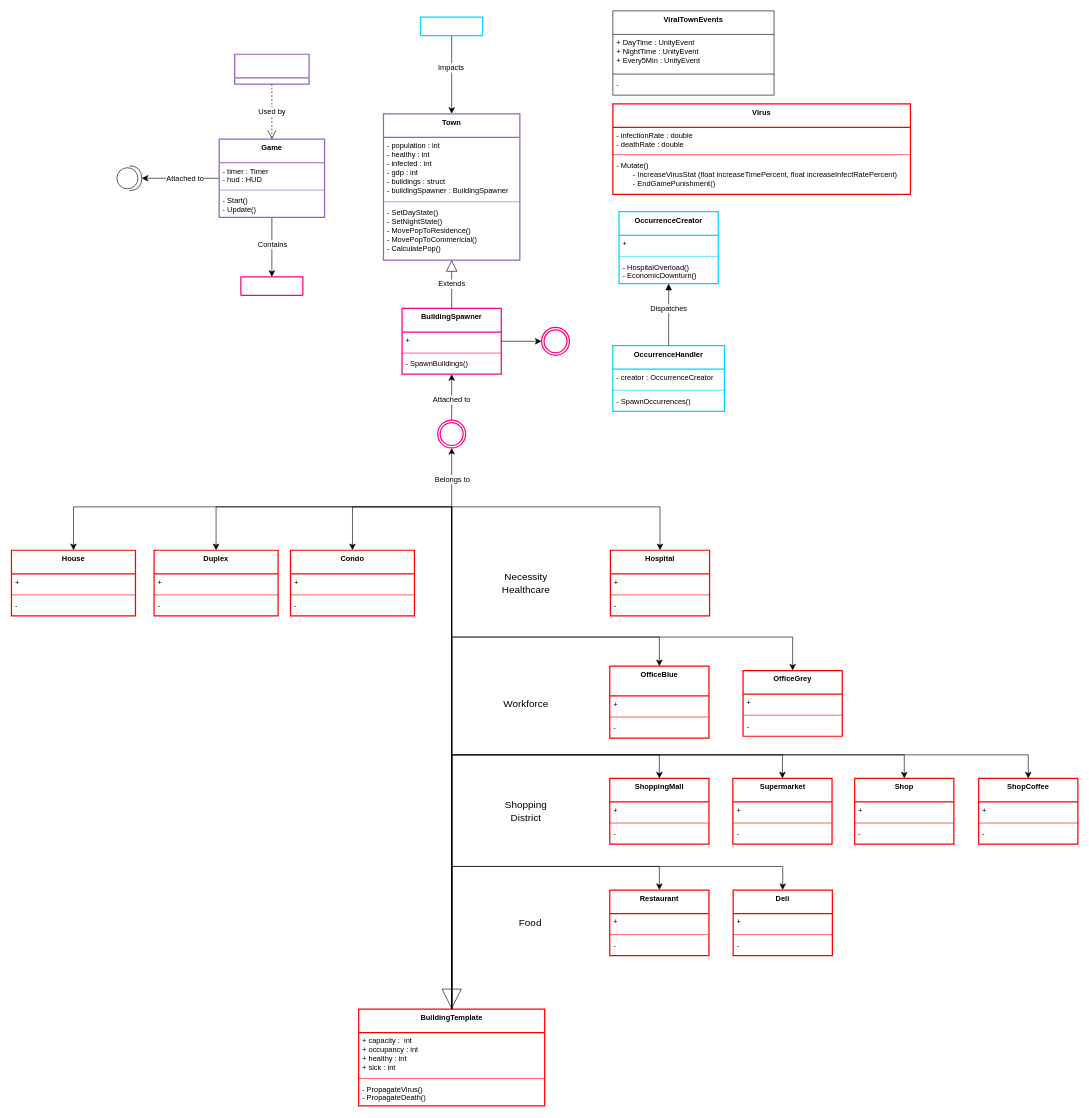
This 1089x1118 diagram has some shape labels left out. Here are the shapes that lost their labels. From the top down, the centre of each, then its label:
point 451,26: Mayor
point 271,68: Timer
point 129,178: Main Camera
point 271,286: HUD
point 555,341: BuildingSpawn
point 451,433: BuidlingType Prefabs
